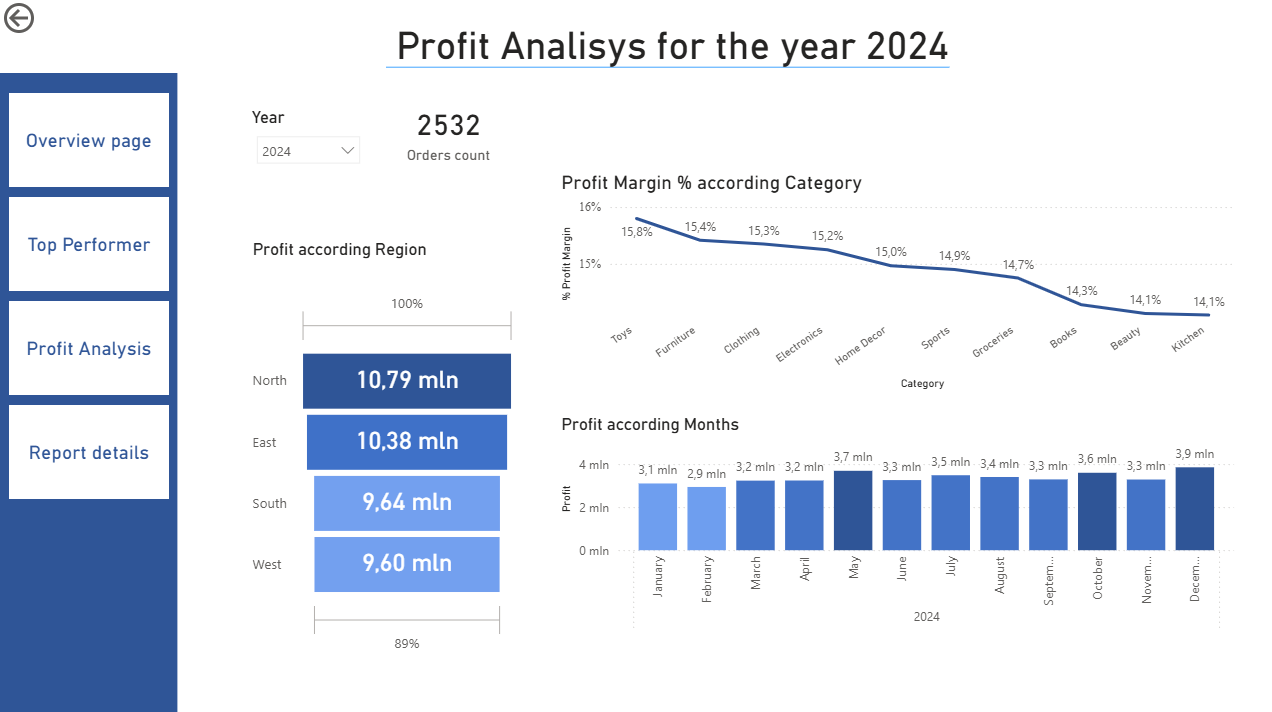

The page's visual inventory and layout, read from the dashboard file:
{"tool":"powerbi","page":{"name":"Profit Analysis","canvas":[1280,720],"ordinal":2},"visuals":[{"type":"textbox","box":[0,74.7,178.1,645.3],"z":0,"group":"g3"},{"type":"lineChart","title":"Profit Margin % according Category","fields":{"Category":["Ecommerce_Sales_Data_2024_2025.Category"],"Y":["# Miary.% Profit Margin"]},"box":[557.3,174.2,682.9,222.7],"z":0},{"type":"funnel","title":"Profit according Region","fields":{"Y":["Sum(Ecommerce_Sales_Data_2024_2025.Profit)"],"Category":["Ecommerce_Sales_Data_2024_2025.Region"]},"box":[248.2,240.8,273.5,447.4],"z":1000},{"type":"slicer","title":"Year","fields":{"Values":["Kalendarz.Year"]},"box":[247.8,109.2,123.9,83.1],"z":2000},{"type":"card","fields":{"Values":["# Miary.# Orders count"]},"box":[384.4,92.1,129.4,82.1],"z":3000},{"type":"clusteredColumnChart","title":"Profit according Months","fields":{"Y":["Sum(Ecommerce_Sales_Data_2024_2025.Profit)"],"Category":["Kalendarz.Year","Kalendarz.Nazwa miesiąca EN"]},"box":[557.3,416.7,682.9,225.2],"z":4000},{"type":"textbox","box":[349.3,20.2,639.8,72.2],"z":5000},{"type":"actionButton","box":[0,0,100,40],"z":6000},{"type":"group","id":"g1","title":"Grupa 1","box":[0,74.7,178.1,645.3],"z":6001},{"type":"group","id":"g2","title":"Grupa 2","box":[0,74.7,178.1,645.3],"z":8001,"group":"g1"},{"type":"group","id":"g3","title":"Grupa 3","box":[0,74.7,178.1,645.3],"z":8001,"group":"g2"},{"type":"pageNavigator","box":[9.4,95,160.9,409.4],"z":9000,"group":"g3"}]}

Visuals, with their boxes in screenshot pixels (x1, y1, x2, y2), scaled from the page's 1280x720 canvas onto the 1272x712 screenshot:
textbox: x1=0 y1=74 x2=177 y2=711
"Profit Margin % according Category" lineChart: x1=554 y1=172 x2=1232 y2=392
"Profit according Region" funnel: x1=247 y1=238 x2=518 y2=681
"Year" slicer: x1=246 y1=108 x2=369 y2=190
card - # Miary.# Orders count: x1=382 y1=91 x2=511 y2=172
"Profit according Months" clusteredColumnChart: x1=554 y1=412 x2=1232 y2=635
textbox: x1=347 y1=20 x2=983 y2=91
actionButton: x1=0 y1=0 x2=99 y2=40
"Grupa 1" group: x1=0 y1=74 x2=177 y2=711
"Grupa 2" group: x1=0 y1=74 x2=177 y2=711
"Grupa 3" group: x1=0 y1=74 x2=177 y2=711
pageNavigator: x1=9 y1=94 x2=169 y2=499
